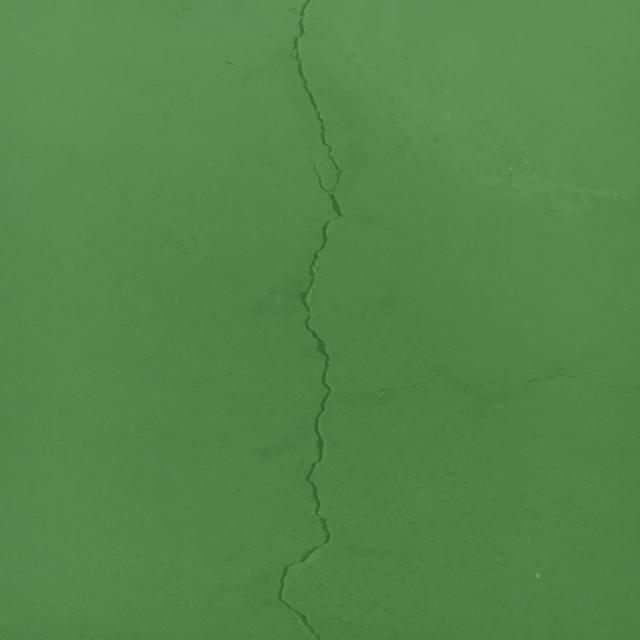crack: (276, 0, 494, 640), (508, 373, 576, 391)
